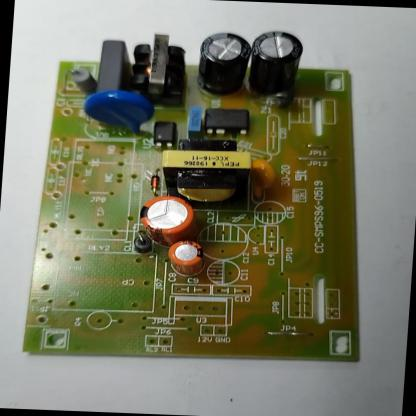Cap1: (135, 194, 196, 247)
Cap2: (165, 238, 203, 268)
Cap3: (194, 30, 252, 98)
Cap4: (247, 30, 304, 96)
MOSFET: (204, 106, 250, 136)
Mov: (80, 88, 156, 138)
Resistor: (68, 61, 96, 94)
Transformer: (159, 137, 253, 208), (128, 31, 188, 103)
